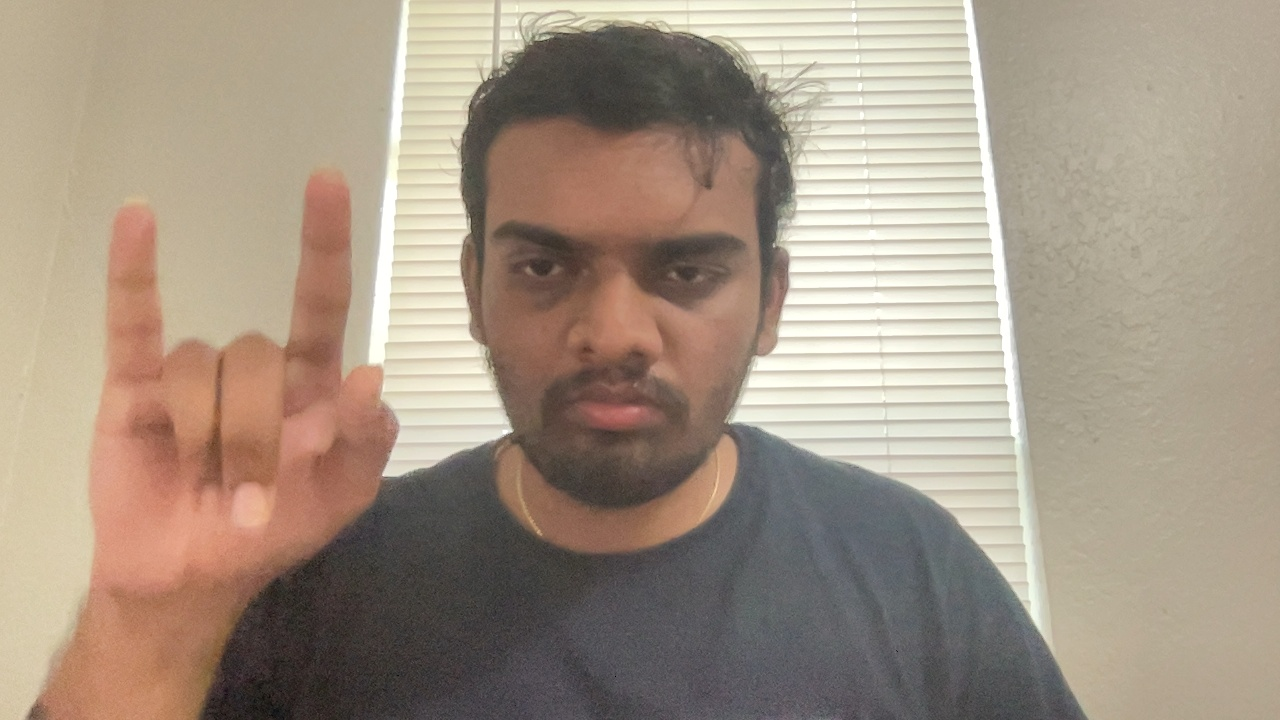i love you: (75, 163, 400, 618)
